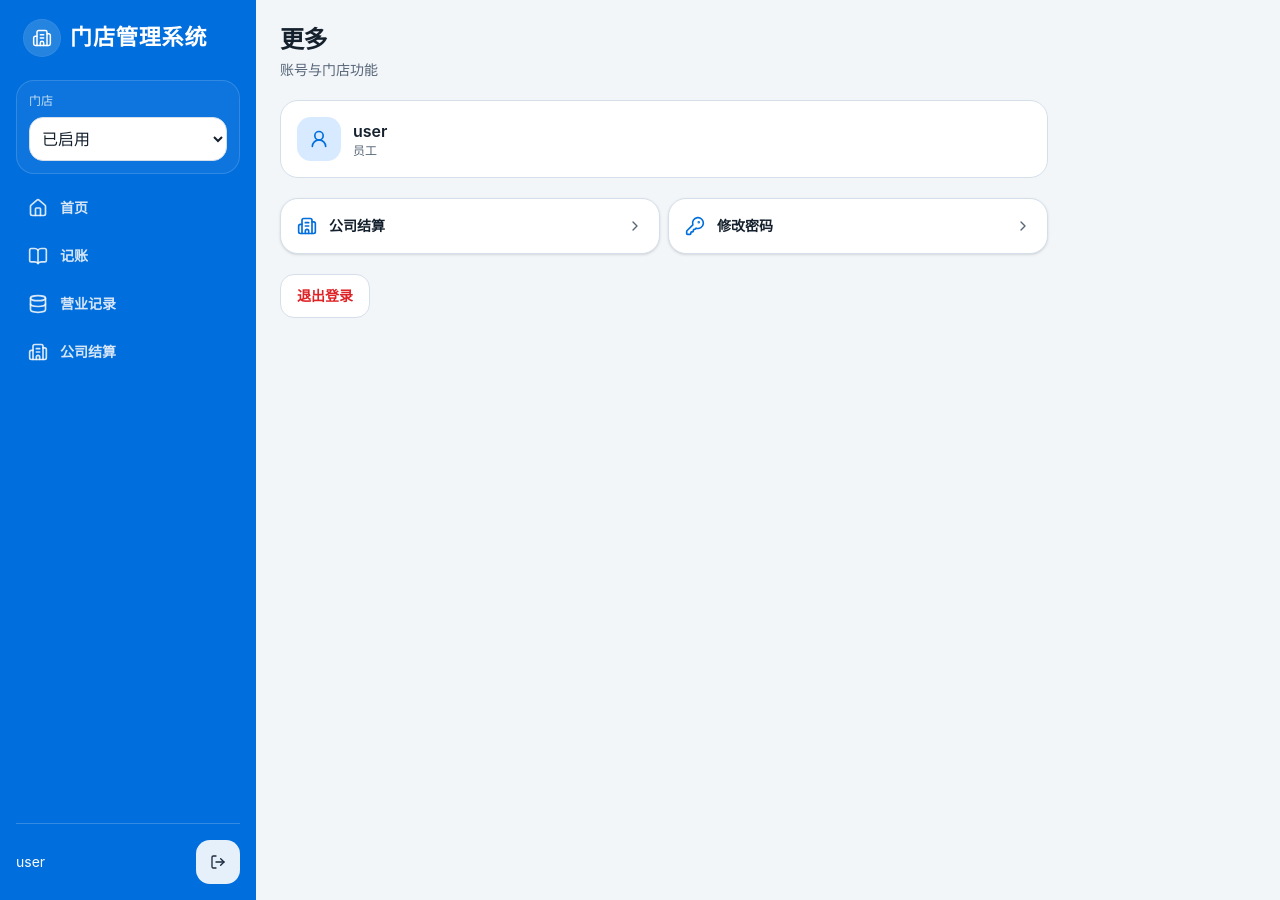
App › shows company settlement in the enabled store only and keeps mobile bottom navigation stable
The width and height of the screenshot is (1280, 900).
Select "已启用" in the dropdown labelled "门店" at coordinates (128, 139), box [29,117,227,161]
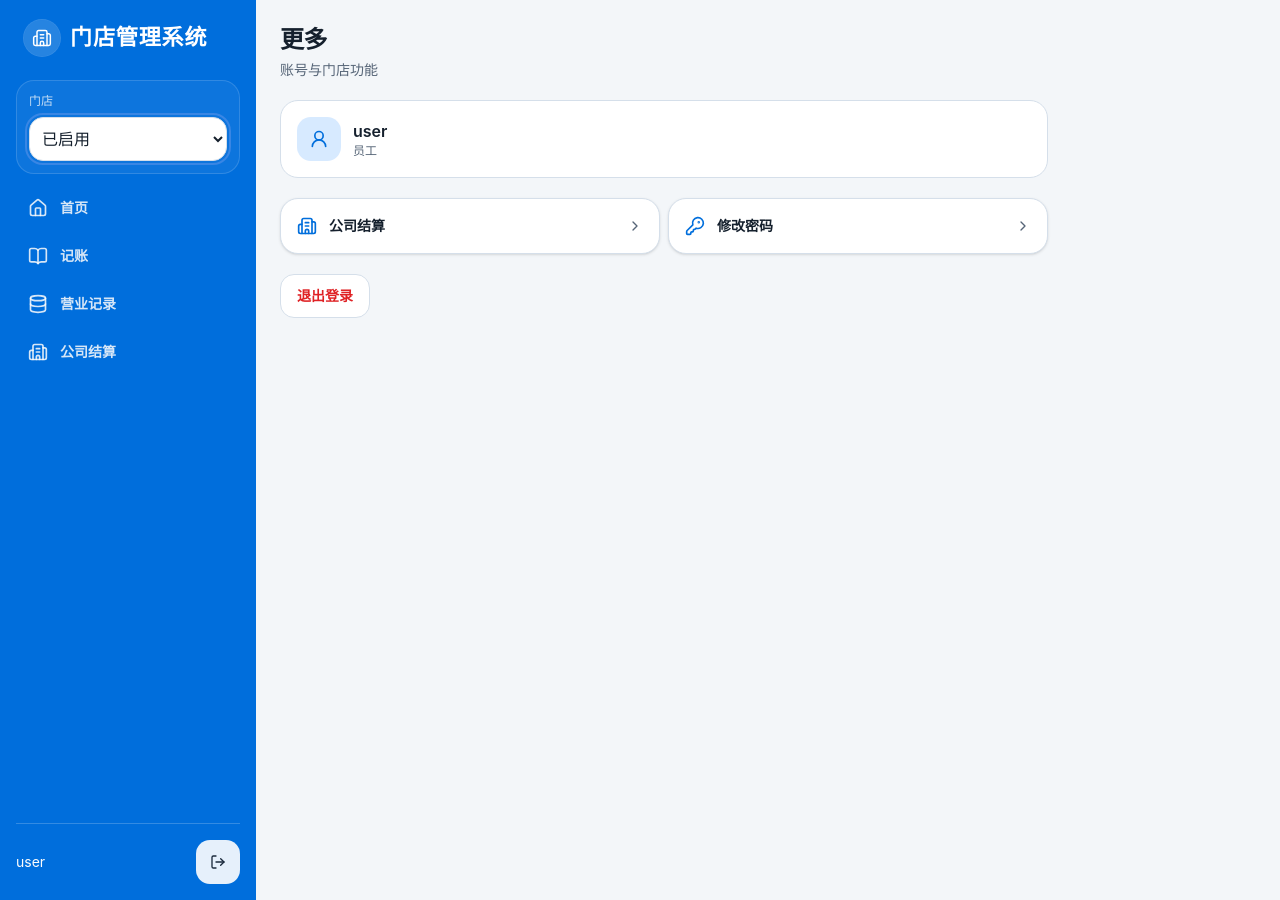
Expected: the link "公司结算" below "营业记录" is shown, [28,342,116,362]
Expected: the links read "首页", "记账", "营业记录", "公司结算", in this order, [28,198,88,218]; [28,246,88,266]; [28,294,116,314]; [28,342,116,362]
Select "未启用" in the dropdown labelled "门店" at coordinates (128, 139), box [29,117,227,161]
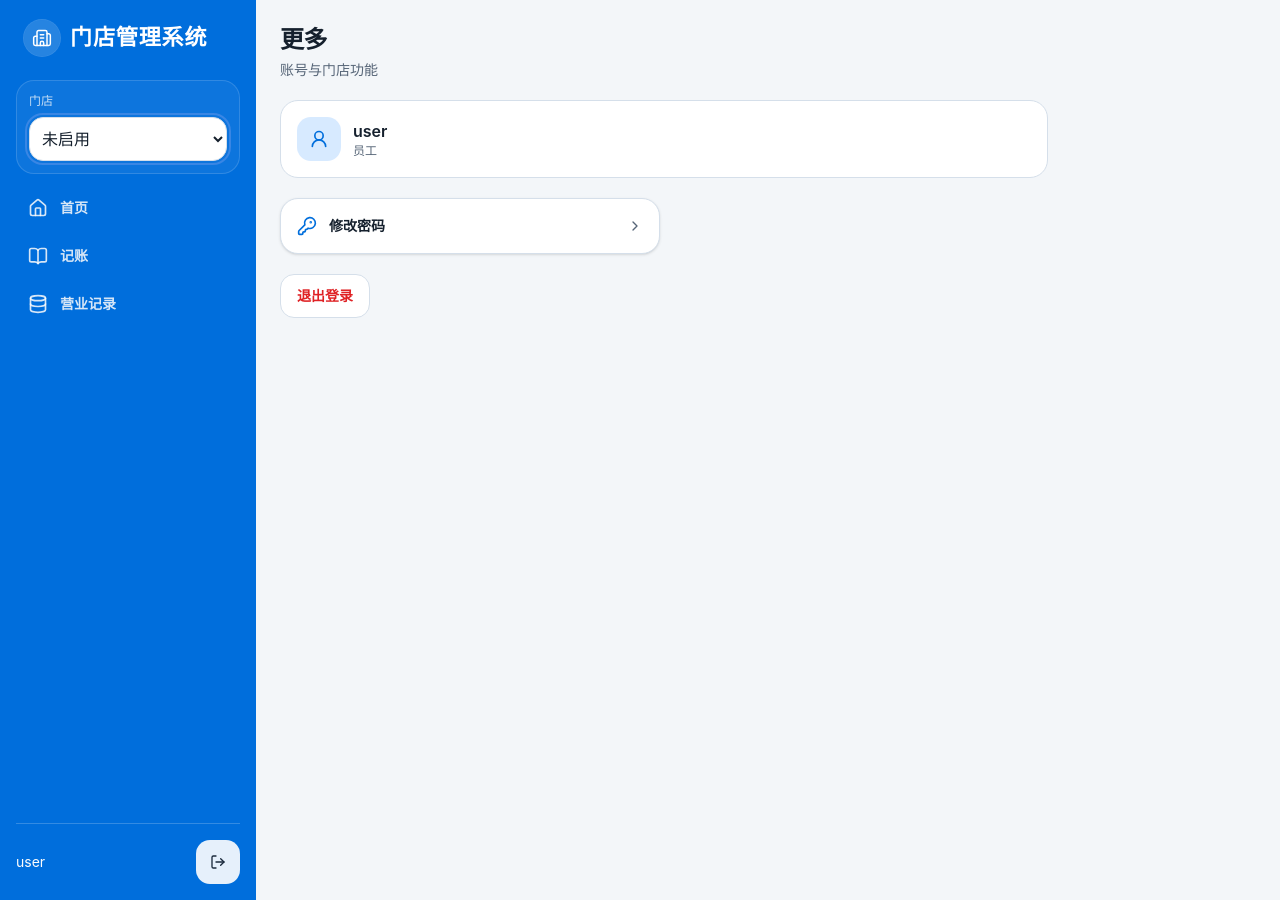
Result: the link "公司结算" is gone
